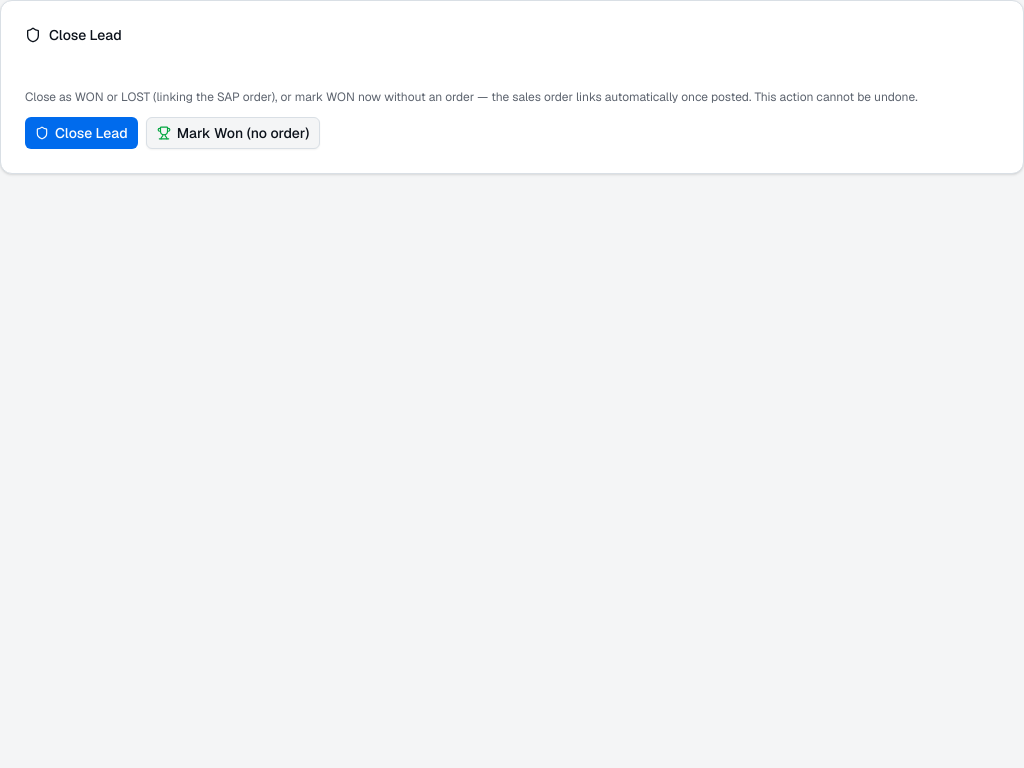
Test case: <ClosureCard> › opens the closure dialog when the Close Lead button is clicked
The image size is (1024, 768).
What coordinates should you click on to do the following:
click the button "Close Lead"
I would click on:
 (81, 133)
Its box is [25,117,138,149].
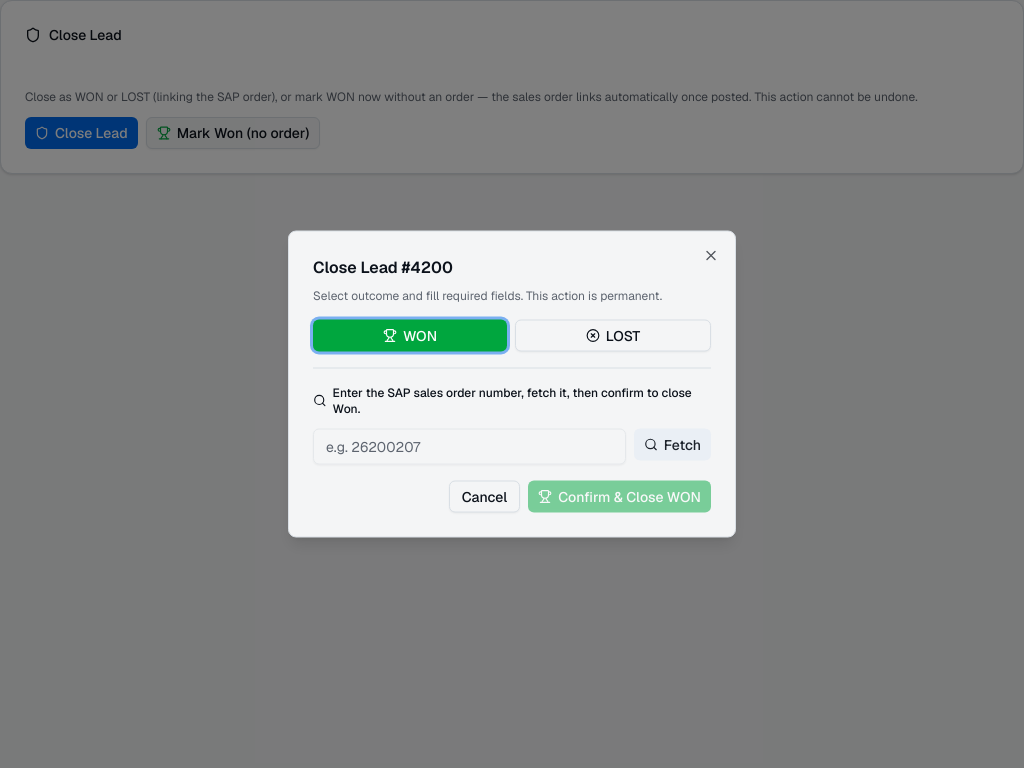
Expected: the dialog is shown, [288,230,736,538]
Expected: the heading "Close Lead #4200" is shown, [313,256,453,278]
Expected: the button "WON" is shown, [313,320,507,352]
